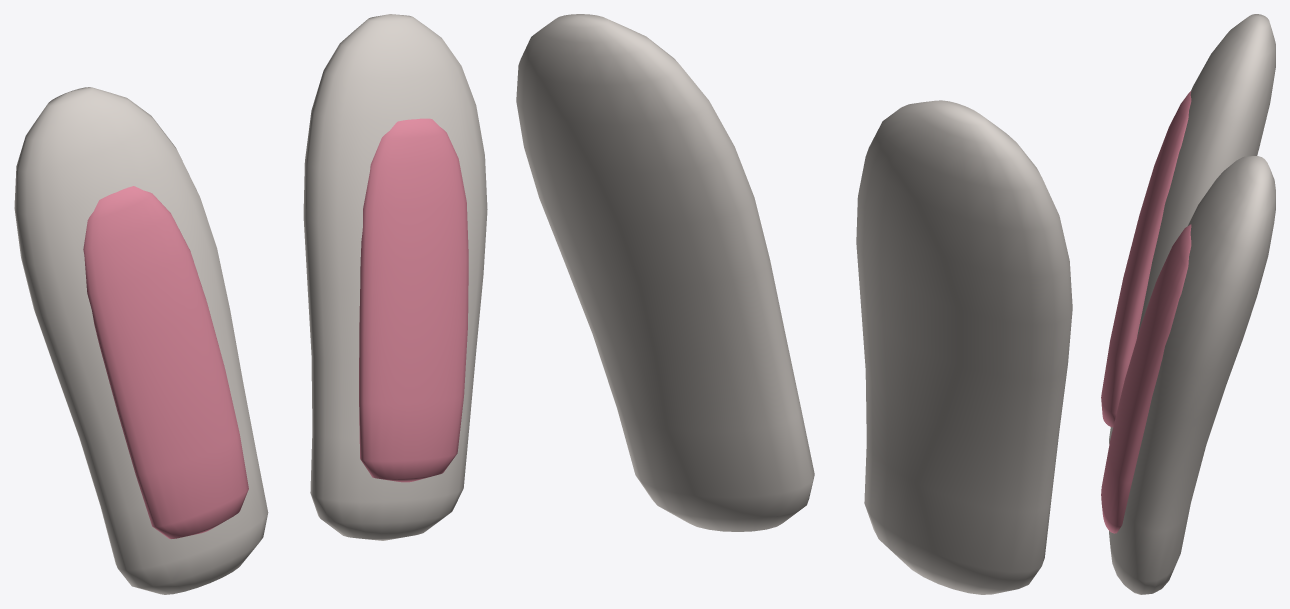
File: Bunny_Ears.glb
The picture shows the model from 3 angles, left to right: view 1: azimuth 30°, elevation 25°; view 2: azimuth 150°, elevation 25°; view 3: azimuth 270°, elevation 25°; orthographic projection. The views are drawn at different scales.
Visible parts, largest first — view 1: Bunny_Ears_New; view 2: Bunny_Ears_New; view 3: Bunny_Ears_New.
Boxes of the visible parts, box(x1,y1,x2,y2) form: Bunny_Ears_New: box(14, 14, 487, 594); Bunny_Ears_New: box(516, 14, 1072, 594); Bunny_Ears_New: box(1101, 14, 1275, 594).
Size of the model in its own units: 0.2444 by 0.2363 by 0.0846.
